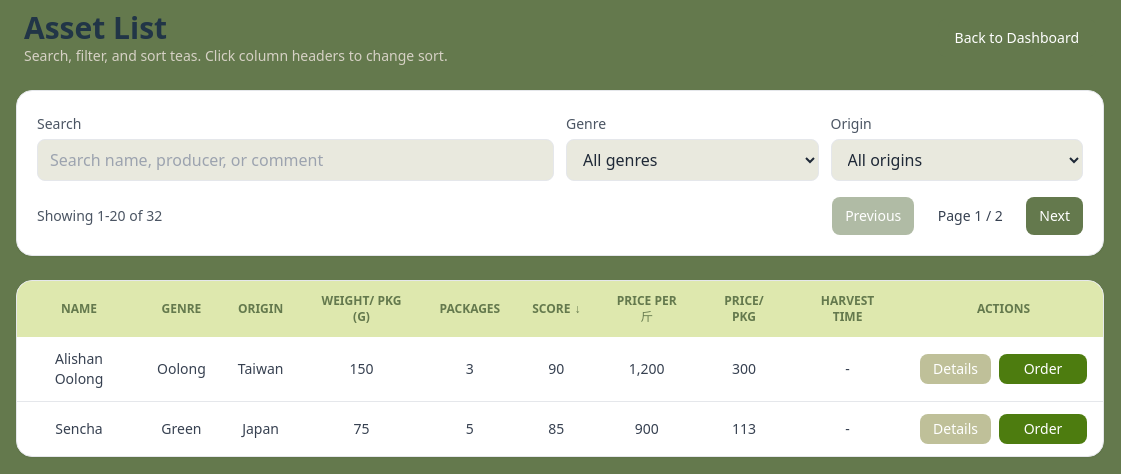
Test: AssetList › loads page two when Next is clicked
Check: the text "Showing 1-20 of 32" is shown, box [37,206,162,226]
Click the button "Next": (1055, 216) [1026,197,1083,235]
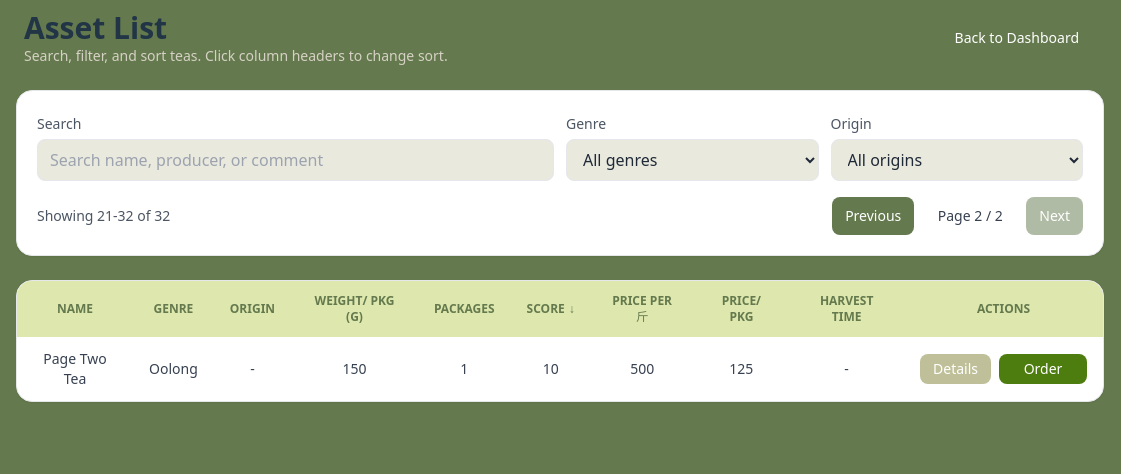
Check: the text "Showing 21-32 of 32" is shown, box [37,206,170,226]
Check: the text "Page Two Tea" is shown, box [17,337,133,401]
